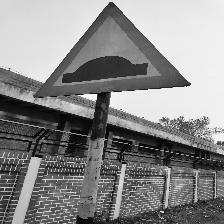Speed-breaker: (33, 1, 190, 96)
